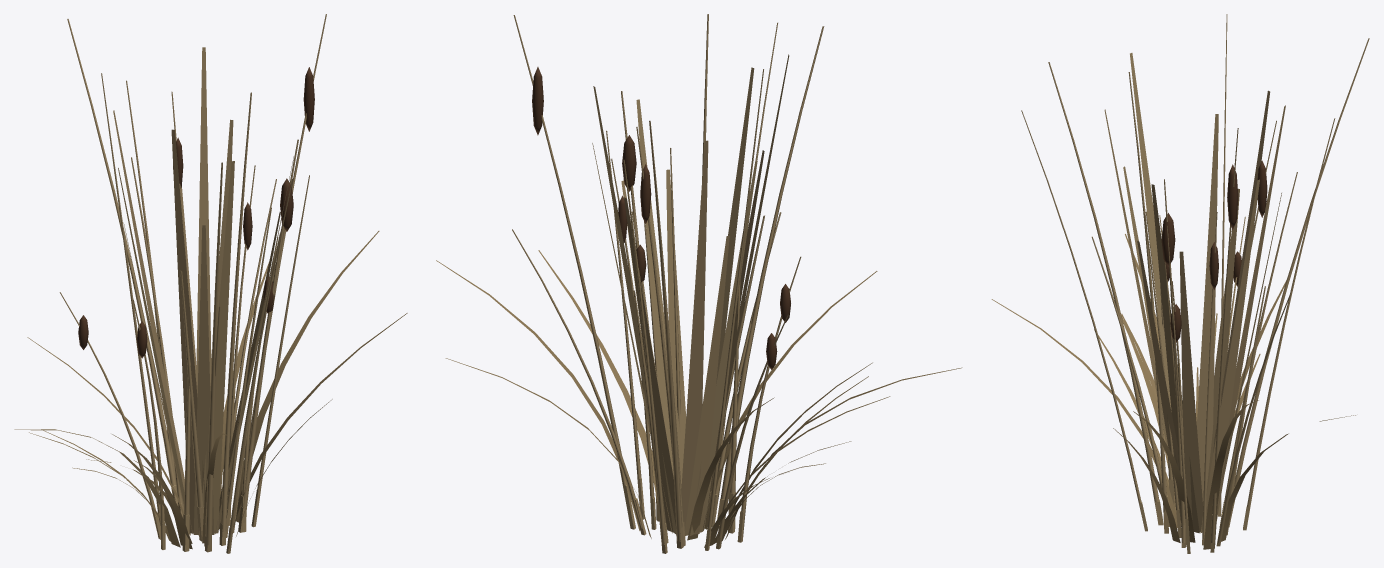
Rendered from reed_clump_2.glb.
3 views of the same model, side by side, from view 1: azimuth 30°, elevation 25°; view 2: azimuth 150°, elevation 25°; view 3: azimuth 270°, elevation 25° (orthographic). The views are drawn at different scales.
Parts seen in each view (by area): view 1: ReedClump_Far, ReedClump_Stalks_2, ReedClump_Stalks_0, ReedClump_Stalks_1, ReedClump_Blades_1, ReedClump_Blades_0, ReedClump_StubbleStalks, ReedClump_Blades_2, ReedClump_Heads_2, ReedClump_Heads_0, ReedClump_Heads_1; view 2: ReedClump_Far, ReedClump_Stalks_0, ReedClump_Stalks_2, ReedClump_Stalks_1, ReedClump_Blades_1, ReedClump_Blades_0, ReedClump_StubbleStalks, ReedClump_Blades_2, ReedClump_Heads_2, ReedClump_Heads_0; view 3: ReedClump_Far, ReedClump_Stalks_2, ReedClump_Stalks_0, ReedClump_Stalks_1, ReedClump_Blades_1, ReedClump_Blades_2, ReedClump_Heads_2, ReedClump_Blades_0, ReedClump_StubbleStalks, ReedClump_Heads_0, ReedClump_Heads_1.
Part boxes in pixels (x1,y1,x2,y2): ReedClump_Far: [113, 47, 293, 535]; ReedClump_Stalks_2: [171, 91, 298, 548]; ReedClump_Stalks_0: [67, 14, 326, 545]; ReedClump_Stalks_1: [59, 80, 309, 536]; ReedClump_Blades_1: [134, 231, 379, 549]; ReedClump_Blades_0: [14, 337, 190, 547]; ReedClump_StubbleStalks: [155, 485, 260, 553]; ReedClump_Blades_2: [72, 313, 407, 543]; ReedClump_Heads_2: [173, 137, 293, 250]; ReedClump_Heads_0: [137, 67, 314, 358]; ReedClump_Heads_1: [78, 276, 274, 349]; ReedClump_Far: [592, 54, 789, 535]; ReedClump_Stalks_0: [513, 15, 801, 541]; ReedClump_Stalks_2: [611, 14, 824, 515]; ReedClump_Stalks_1: [512, 130, 788, 545]; ReedClump_Blades_1: [436, 260, 877, 538]; ReedClump_Blades_0: [687, 362, 962, 547]; ReedClump_StubbleStalks: [623, 478, 743, 553]; ReedClump_Blades_2: [538, 250, 890, 540]; ReedClump_Heads_2: [618, 135, 651, 242]; ReedClump_Heads_0: [532, 67, 790, 322]; ReedClump_Far: [1104, 53, 1285, 533]; ReedClump_Stalks_2: [1021, 62, 1276, 538]; ReedClump_Stalks_0: [1091, 14, 1369, 542]; ReedClump_Stalks_1: [1145, 118, 1335, 542]; ReedClump_Blades_1: [991, 299, 1355, 549]; ReedClump_Blades_2: [1113, 313, 1198, 542]; ReedClump_Heads_2: [1161, 160, 1267, 289]; ReedClump_Blades_0: [1121, 234, 1286, 512]; ReedClump_StubbleStalks: [1139, 478, 1250, 553]; ReedClump_Heads_0: [1164, 164, 1238, 281]; ReedClump_Heads_1: [1170, 251, 1241, 342].
Bounding box in the file's own units: 1.7 × 1.77 × 1.28.
